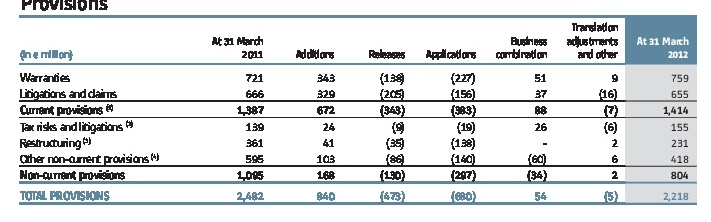table: (0, 0, 711, 222)
